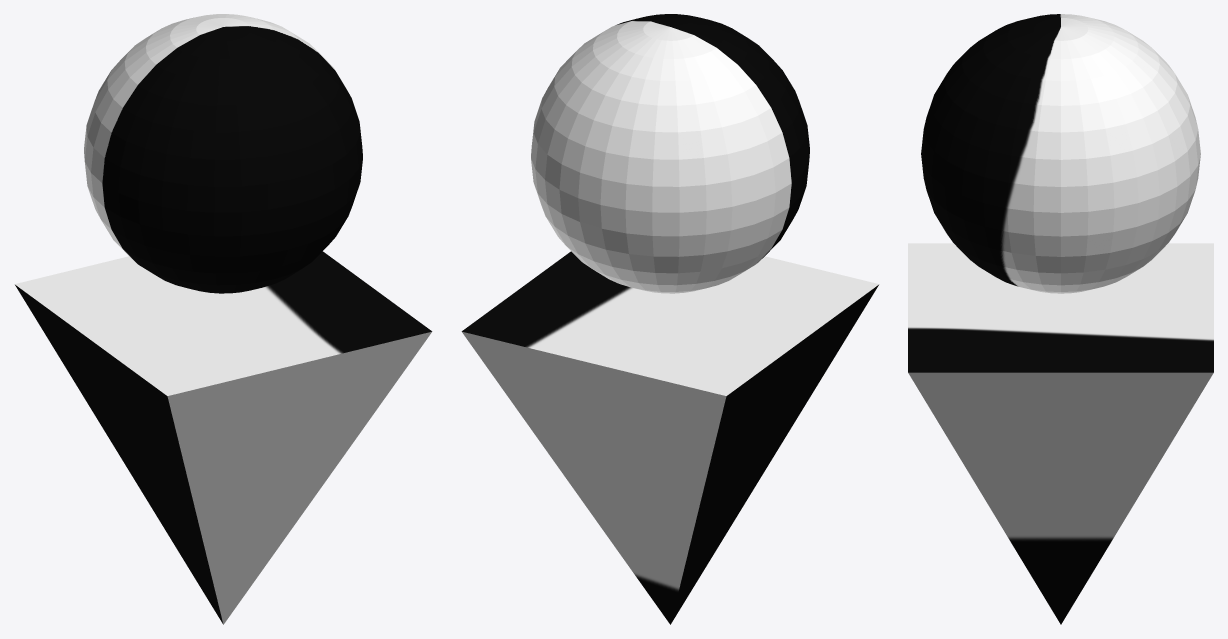
Rendered from Obj_Player.fbx.
The picture shows the model from 3 angles, left to right: view 1: azimuth 30°, elevation 25°; view 2: azimuth 150°, elevation 25°; view 3: azimuth 270°, elevation 25°; orthographic projection.
Parts seen in each view (by area): view 1: Cube; view 2: Cube; view 3: Cube.
Part boxes in pixels (x1=…): Cube: x1=14, y1=14, x2=432, y2=624; Cube: x1=461, y1=14, x2=879, y2=624; Cube: x1=908, y1=14, x2=1213, y2=624.
Bounding box in the file's own units: 1.75 × 3.77 × 1.75.
